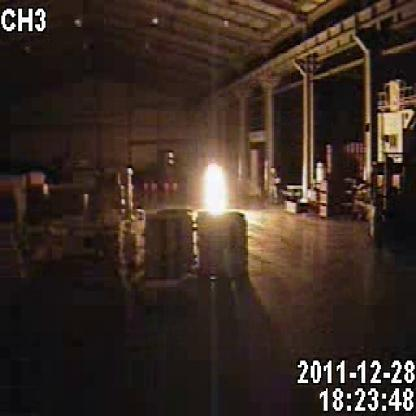fire: (191, 137, 254, 240)
